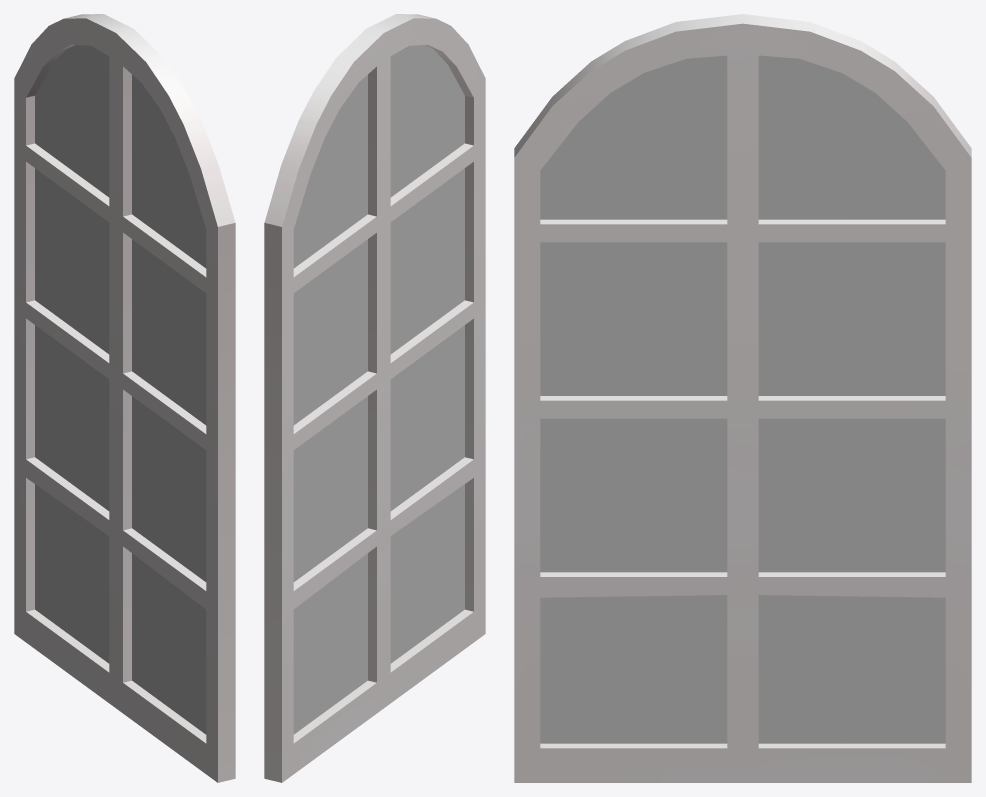
The model's file is Doll_Room_Window_001.FBX.
The picture shows the model from 3 angles, left to right: view 1: azimuth 30°, elevation 25°; view 2: azimuth 150°, elevation 25°; view 3: azimuth 270°, elevation 25°; orthographic projection. The views are drawn at different scales.
Visible parts, largest first — view 1: Doll_Room_Window_001_glass, Doll_Room_Window_001; view 2: Doll_Room_Window_001_glass, Doll_Room_Window_001; view 3: Doll_Room_Window_001_glass, Doll_Room_Window_001.
Boxes of the visible parts, left/top/right/bottom form: Doll_Room_Window_001_glass: left=35, top=45, right=206, bottom=734; Doll_Room_Window_001: left=14, top=14, right=235, bottom=782; Doll_Room_Window_001_glass: left=293, top=45, right=464, bottom=734; Doll_Room_Window_001: left=264, top=14, right=485, bottom=782; Doll_Room_Window_001_glass: left=540, top=55, right=945, bottom=743; Doll_Room_Window_001: left=514, top=14, right=971, bottom=782.
Bounding box in the file's own units: 3.62 × 133 × 72.4.
